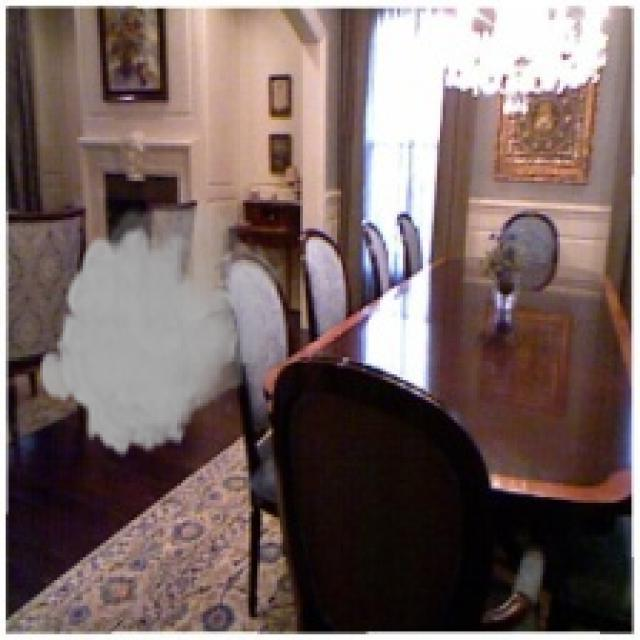Smoke: (37, 205, 292, 460)
